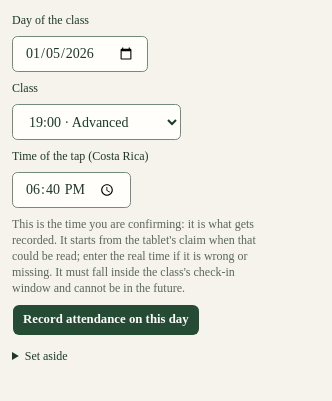
Test: QueuedCheckInForm › posts exactly the chosen day and class to the record action, bound to the organization, and confirms
Select "18:00 · Fundamentals" in the dropdown labelled "Class". click: (96, 122)
box: [12,104,181,140]
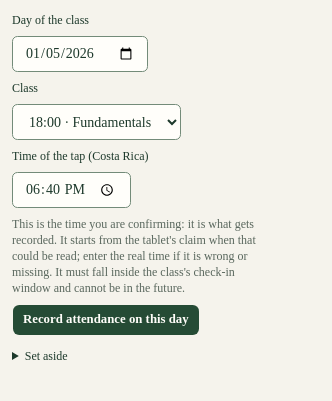
Click the button "Record attendance on this day". click: (106, 320)
box: [12,304,200,336]
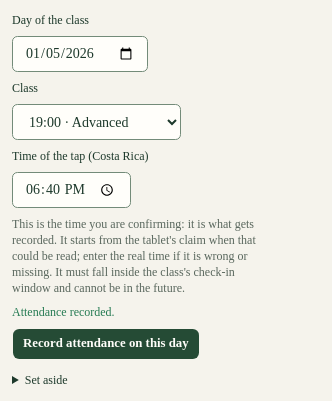
Expected: the text "Attendance recorded." is shown, [12,304,115,320]
